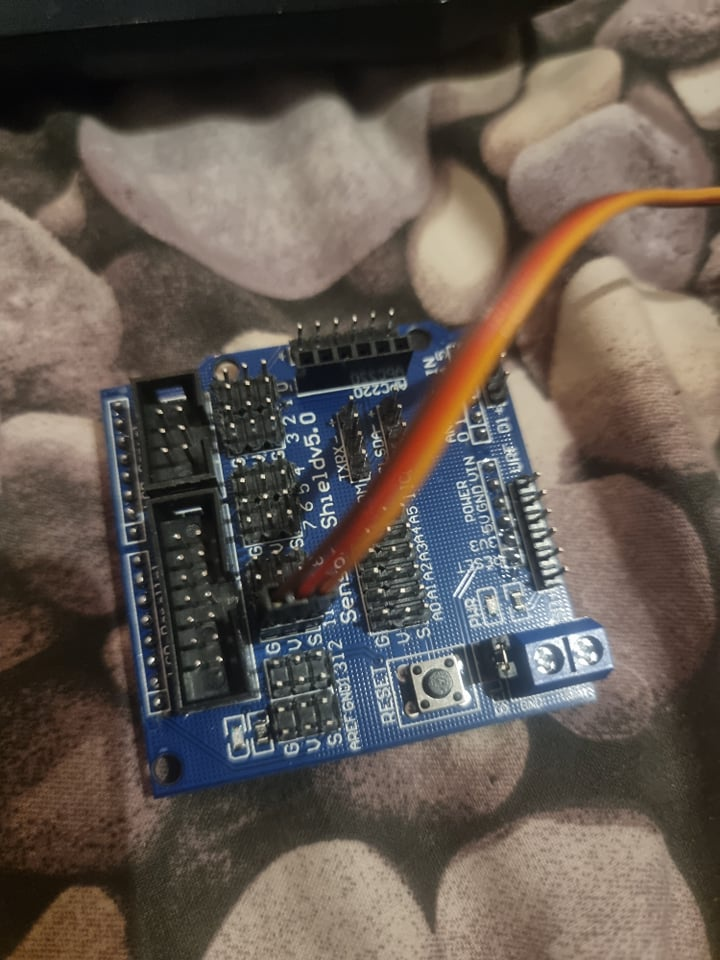5V EXPANSION: (96, 304, 617, 793)
